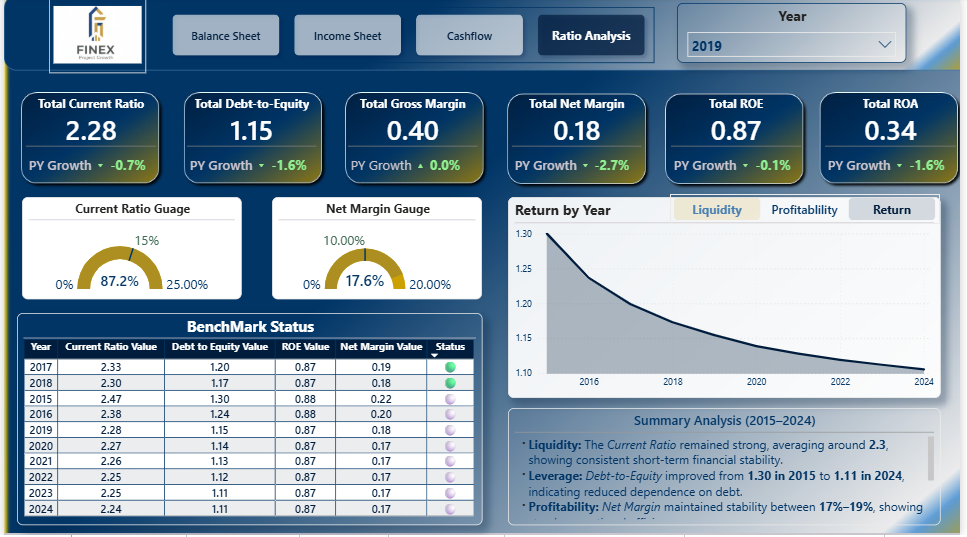

What the dashboard file says about the page in this screenshot:
{"tool":"powerbi","page":{"name":"Ratio Analysis","canvas":[1280,720],"ordinal":3},"visuals":[{"type":"slicer","title":"Year","fields":{"Values":["DimDate.Year"]},"box":[900,8.6,307.1,80],"z":0},{"type":"pageNavigator","box":[215,13.3,655,75],"z":1000},{"type":"cardVisual","title":"Total Assets","fields":{"Data":["_Measures for Ratios.Total Debt-to-Equity"]},"box":[240,127.3,184.5,121.8],"z":2000},{"type":"cardVisual","title":"Total Assets","fields":{"Data":["_Measures for Ratios.Total Current Ratio"]},"box":[23.6,127.3,185.5,121.8],"z":3000},{"type":"cardVisual","title":"Total Assets","fields":{"Data":["_Measures for Ratios.Total Gross Margin"]},"box":[455.5,127.3,184.5,121.8],"z":4000},{"type":"cardVisual","title":"Total Assets","fields":{"Data":["_Measures for Ratios.Total Net Margin"]},"box":[674.5,127.3,184.5,121.8],"z":5000},{"type":"cardVisual","title":"Total Assets","fields":{"Data":["_Measures for Ratios.Total ROE"]},"box":[887.3,127.3,185.5,121.8],"z":6000},{"type":"cardVisual","title":"Total Assets","fields":{"Data":["_Measures for Ratios.Total ROA"]},"box":[1093.3,126.7,186.7,121.7],"z":7000},{"type":"lineChart","fields":{"Y":["_Measures for Ratios.line_chart_measures_ratios"],"Category":["Ratios.Year"]},"box":[674.3,267.1,578.6,268.6],"z":8000},{"type":"advancedSlicerVisual","fields":{"Values":["line_selected_table_ratios.Type"]},"box":[891.4,264.3,361.4,40],"z":9000},{"type":"gauge","title":"Current Ratio Guage","fields":{"MinValue":["_Measures for Ratios.ROA Guage Minimum"],"TargetValue":["_Measures for Ratios.ROA Guage Target"],"MaxValue":["_Measures for Ratios.ROA Guage Max"],"Y":["_Measures for Ratios.ROE Guage"]},"box":[24.3,267.1,294.3,137.1],"z":9001},{"type":"gauge","title":"Net Margin Gauge","fields":{"MinValue":["_Measures for Ratios.ROA Guage Minimum"],"MaxValue":["_Measures for Ratios.NM Guage Max"],"TargetValue":["_Measures for Ratios.NM Guage Target"],"Y":["_Measures for Ratios.NM Guage"]},"box":[358.6,267.1,281.4,137.1],"z":9002},{"type":"tableEx","title":"BenchMark Status","fields":{"Values":["Ratios.Year","_Measures for Ratios.Current Ratio Value","_Measures for Ratios.Debt to Equity Value","_Measures for Ratios.ROE Value","_Measures for Ratios.Net Margin Value","_Measures for Ratios.Status Icon"]},"box":[17.1,422.9,622.9,284.3],"z":9004},{"type":"textbox","title":"Summary Analysis (2015–2024)","box":[674.3,550,578.6,157.1],"z":9005},{"type":"image","box":[60,0,130,101.7],"z":9006}]}

Visuals, with their boxes in screenshot pixels (x1, y1, x2, y2), scaled from the page's 1280x720 canvas onto the 967x537 screenshot:
"Year" slicer: (x1=680, y1=6, x2=912, y2=66)
pageNavigator: (x1=162, y1=10, x2=657, y2=66)
"Total Assets" cardVisual: (x1=181, y1=95, x2=321, y2=186)
"Total Assets" cardVisual: (x1=18, y1=95, x2=158, y2=186)
"Total Assets" cardVisual: (x1=344, y1=95, x2=484, y2=186)
"Total Assets" cardVisual: (x1=510, y1=95, x2=649, y2=186)
"Total Assets" cardVisual: (x1=670, y1=95, x2=810, y2=186)
"Total Assets" cardVisual: (x1=826, y1=94, x2=966, y2=185)
lineChart - _Measures for Ratios.line_chart_measures_ratios x Ratios.Year: (x1=509, y1=199, x2=947, y2=400)
advancedSlicerVisual - line_selected_table_ratios.Type: (x1=673, y1=197, x2=946, y2=227)
"Current Ratio Guage" gauge: (x1=18, y1=199, x2=241, y2=301)
"Net Margin Gauge" gauge: (x1=271, y1=199, x2=484, y2=301)
"BenchMark Status" tableEx: (x1=13, y1=315, x2=484, y2=527)
"Summary Analysis (2015–2024)" textbox: (x1=509, y1=410, x2=947, y2=527)
image: (x1=45, y1=0, x2=144, y2=76)
